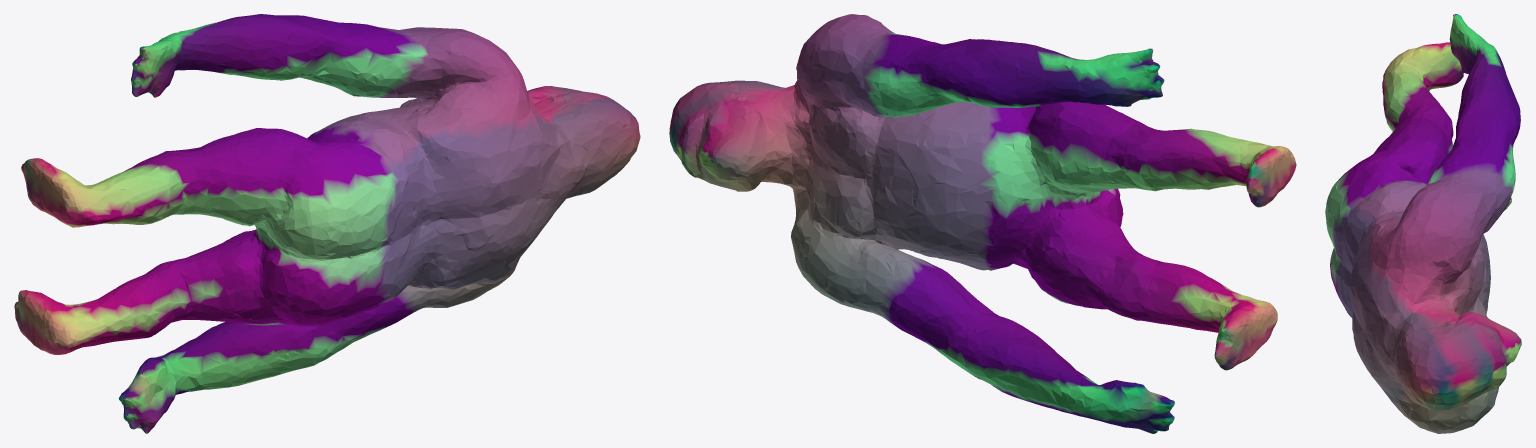
Rendered from gorilla-14.off.obj.
3 renders of one model, left to right at view 1: azimuth 30°, elevation 25°; view 2: azimuth 150°, elevation 25°; view 3: azimuth 270°, elevation 25°, orthographic. The views are drawn at different scales.
Bounding box in the file's own units: 1.76 × 1.08 × 0.5657.
